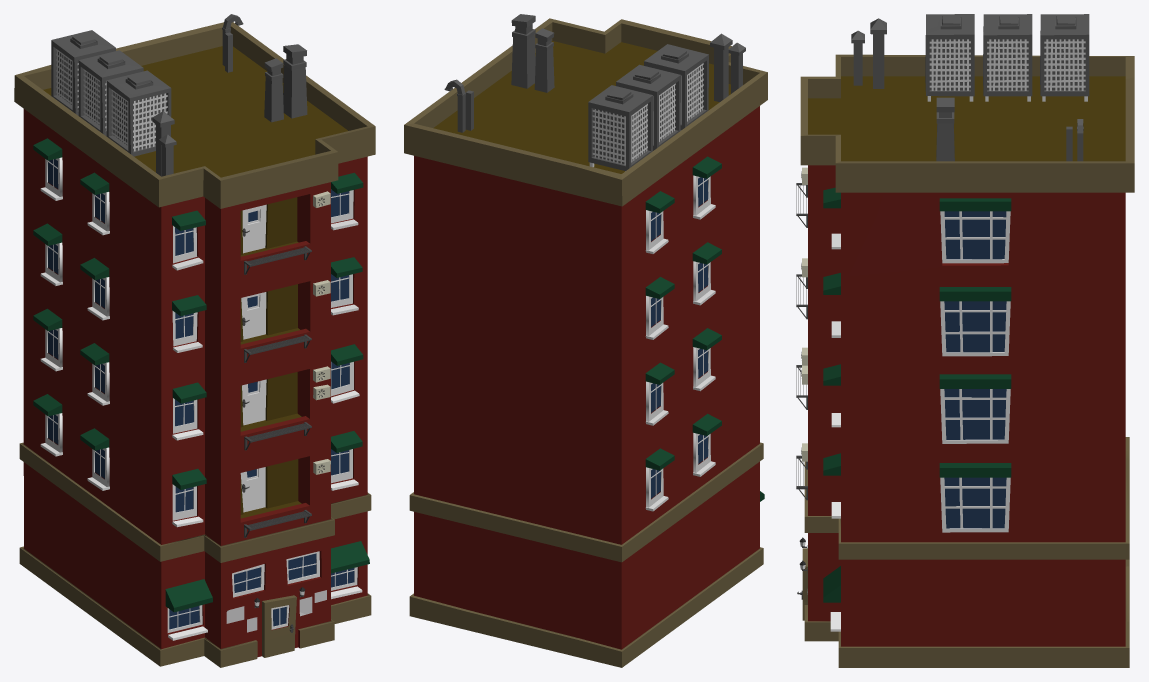
Rendered from building-2.fbx.
3 views of the same model, side by side, from view 1: azimuth 30°, elevation 25°; view 2: azimuth 150°, elevation 25°; view 3: azimuth 270°, elevation 25° (orthographic). The views are drawn at different scales.
Parts seen in each view (by area): view 1: building-2; view 2: building-2; view 3: building-2.
Part boxes in pixels (x1,y1,x2,y2): building-2: (14, 14, 375, 667); building-2: (404, 14, 767, 667); building-2: (796, 14, 1134, 667).
Bounding box in the file's own units: 634 × 1419 × 779.
